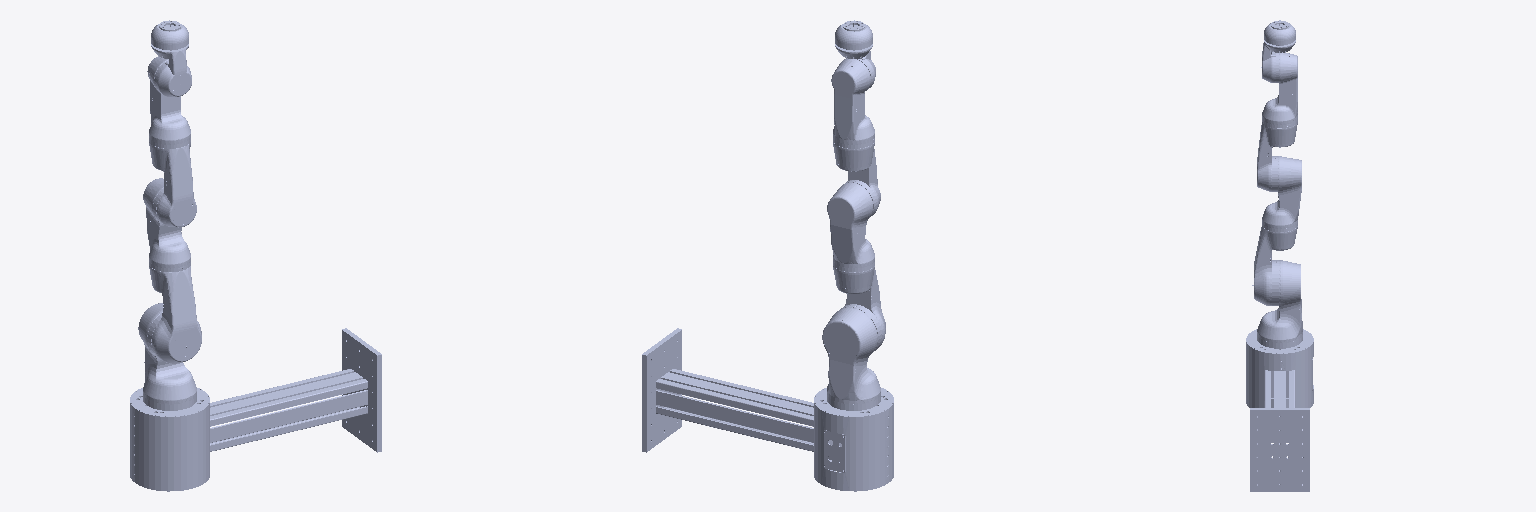
The robot description file, URDF, robot "r_robot":
<?xml version="1.0" encoding="utf-8"?>
<!-- This URDF was automatically created by SolidWorks to URDF Exporter! Originally created by [author] ([email redacted]) 
     Commit Version: 1.6.0-4-g7f85cfe  Build Version: 1.6.7995.38578
     For more information, please see http://wiki.ros.org/sw_urdf_exporter -->
<robot
  name="r_robot">
  <link
    name="base_link">
    <inertial>
      <origin
        xyz="0.0288244297796101 9.15758418819429E-05 3.33337614415248E-06"
        rpy="0 0 0" />
      <mass
        value="47.2278414825512" />
      <inertia
        ixx="20.2855091609073"
        ixy="0.000126569938505645"
        ixz="-0.00694088342846659"
        iyy="20.9162008161584"
        iyz="-0.000294535995843831"
        izz="0.737345947031001" />
    </inertial>
    <visual>
      <origin
        xyz="0 0 0"
        rpy="0 0 0" />
      <geometry>
        <mesh
          filename="package://双臂_1SLDASM/meshes/base_link.STL" />
      </geometry>
      <material
        name="">
        <color
          rgba="0.792156862745098 0.819607843137255 0.933333333333333 1" />
      </material>
    </visual>
    <collision>
      <origin
        xyz="0 0 0"
        rpy="0 0 0" />
      <geometry>
        <mesh
          filename="package://双臂_1SLDASM/meshes/base_link.STL" />
      </geometry>
    </collision>
  </link>
    <link
    name="r_link_1">
    <inertial>
      <origin
        xyz="9.15758418901297E-05 -0.0288244297796102 -0.322596666623851"
        rpy="0 0 0" />
      <mass
        value="47.2278414825512" />
      <inertia
        ixx="20.9162008161584"
        ixy="-0.000126569938505645"
        ixz="-0.000294535995843831"
        iyy="20.2855091609073"
        iyz="0.00694088342847485"
        izz="0.737345947031001" />
    </inertial>
    <visual>
      <origin
        xyz="0 0 0"
        rpy="0 0 0" />
      <geometry>
        <mesh
          filename="package://双臂_1SLDASM/meshes/r_link_1.STL" />
      </geometry>
      <material
        name="">
        <color
          rgba="0.792156862745098 0.819607843137255 0.933333333333333 1" />
      </material>
    </visual>
    <collision>
      <origin
        xyz="0 0 0"
        rpy="0 0 0" />
      <geometry>
        <mesh
          filename="package://双臂_1SLDASM/meshes/r_link_1.STL" />
      </geometry>
    </collision>
  </link>
  <joint
    name="r_joint_1"
    type="continuous">
    <origin
      xyz="0 0 0.322599999999995"
      rpy="0 0 0" />
    <parent
      link="base_link" />
    <child
      link="r_link_1" />
    <axis
      xyz="0 0 1" />
      <hardware id="0" type="driver">
      <limit lower="-2.8099800957" upper="2.8099800957" effort="0" velocity="0" />
      <transform ratio="1.0" offset_pos_cnt="0" cnt_per_unit="[phone redacted]" torque_per_unit="1.0" user_unit_name="rad"/>
      <inputs name="Inputs">
        <status_word>Statusword</status_word>
        <position_actual_value>Position actual value</position_actual_value>
        <velocity_actual_value>Velocity actual value</velocity_actual_value>
        <!-- <torque_actual_value>Torque actual value</torque_actual_value> -->
        <load_torque_value>Analog Input 1</load_torque_value>
         <secondary_position_value>Auxiliary position actual value</secondary_position_value> 
        <!--  <secondary_velocity_value>Secondary velocity value</secondary_velocity_value>  -->
      </inputs>
      <outputs name="Outputs">
        <control_word>Controlword</control_word>
        <mode_of_operation>Modes of operation</mode_of_operation>
        <target_position>Target position</target_position>
        <target_velocity>Target velocity</target_velocity>
        <!-- <target_torque>Target torque</target_torque> -->
      </outputs>
    </hardware>
  </joint>
  <link
    name="r_link_2">
    <inertial>
      <origin
        xyz="9.15758418901401E-05 -0.322596666623851 0.028824429779611"
        rpy="0 0 0" />
      <mass
        value="47.2278414825512" />
      <inertia
        ixx="20.9162008161584"
        ixy="-0.000294535995843833"
        ixz="0.000126569938505418"
        iyy="0.737345947031001"
        iyz="-0.00694088342842729"
        izz="20.2855091609073" />
    </inertial>
    <visual>
      <origin
        xyz="0 0 0"
        rpy="0 0 0" />
      <geometry>
        <mesh
          filename="package://双臂_1SLDASM/meshes/r_link_2.STL" />
      </geometry>
      <material
        name="">
        <color
          rgba="0.792156862745098 0.819607843137255 0.933333333333333 1" />
      </material>
    </visual>
    <collision>
      <origin
        xyz="0 0 0"
        rpy="0 0 0" />
      <geometry>
        <mesh
          filename="package://双臂_1SLDASM/meshes/r_link_2.STL" />
      </geometry>
    </collision>
  </link>
  <joint
    name="r_joint_2"
    type="continuous">
    <origin
      xyz="0 0 0"
      rpy="1.5707963267949 0 0" />
    <parent
      link="r_link_1" />
    <child
      link="r_link_2" />
    <axis
      xyz="0 0 1" />
      <hardware id="1" type="driver">
      <limit lower="-2.3038346126" upper="2.3038346126" effort="0" velocity="0" />
      <transform ratio="1.0" offset_pos_cnt="0" cnt_per_unit="[phone redacted]" torque_per_unit="1.0" user_unit_name="rad"/>
      <inputs name="Inputs">
        <status_word>Statusword</status_word>
        <position_actual_value>Position actual value</position_actual_value>
        <velocity_actual_value>Velocity actual value</velocity_actual_value>
        <!-- <torque_actual_value>Torque actual value</torque_actual_value> -->
        <load_torque_value>Analog Input 1</load_torque_value>
         <secondary_position_value>Auxiliary position actual value</secondary_position_value> 
        <!--  <secondary_velocity_value>Secondary velocity value</secondary_velocity_value>  -->
      </inputs>
      <outputs name="Outputs">
        <control_word>Controlword</control_word>
        <mode_of_operation>Modes of operation</mode_of_operation>
        <target_position>Target position</target_position>
        <target_velocity>Target velocity</target_velocity>
        <!-- <target_torque>Target torque</target_torque> -->
      </outputs>
    </hardware>
  </joint>
  <link
    name="r_link_3">
    <inertial>
      <origin
        xyz="9.15758418893732E-05 -0.0288244297796136 -0.724096666623855"
        rpy="0 0 3.14" />
      <mass
        value="47.2278414825512" />
      <inertia
        ixx="20.9162008161584"
        ixy="-0.000126569938505668"
        ixz="-0.00029453599577981"
        iyy="20.2855091609073"
        iyz="0.00694088342841017"
        izz="0.737345947031001" />
    </inertial>
    <visual>
      <origin
        xyz="0 0 0"
        rpy="0 0 3.14" />
      <geometry>
        <mesh
          filename="package://双臂_1SLDASM/meshes/r_link_3.STL" />
      </geometry>
      <material
        name="">
        <color
          rgba="0.792156862745098 0.819607843137255 0.933333333333333 1" />
      </material>
    </visual>
    <collision>
      <origin
        xyz="0 0 0"
        rpy="0 0 0" />
      <geometry>
        <mesh
          filename="package://双臂_1SLDASM/meshes/r_link_3.STL" />
      </geometry>
    </collision>
  </link>
  <joint
    name="r_joint_3"
    type="continuous">
    <origin
      xyz="0 0.401500000000004 0"
      rpy="-1.5707963267949 0 0" />
    <parent
      link="r_link_2" />
    <child
      link="r_link_3" />
    <axis
      xyz="0 0 1" />
      <hardware id="2" type="driver">
      <limit lower="-2.8274333882" upper="2.8274333882" effort="0" velocity="0" />
      <transform ratio="1.0" offset_pos_cnt="0" cnt_per_unit="[phone redacted]" torque_per_unit="1.0" user_unit_name="rad"/>
      <inputs name="Inputs">
        <status_word>Statusword</status_word>
        <position_actual_value>Position actual value</position_actual_value>
        <velocity_actual_value>Velocity actual value</velocity_actual_value>
        <!-- <torque_actual_value>Torque actual value</torque_actual_value> -->
        <load_torque_value>Analog Input 1</load_torque_value>
         <secondary_position_value>Auxiliary position actual value</secondary_position_value> 
        <!--  <secondary_velocity_value>Secondary velocity value</secondary_velocity_value>  -->
      </inputs>
      <outputs name="Outputs">
        <control_word>Controlword</control_word>
        <mode_of_operation>Modes of operation</mode_of_operation>
        <target_position>Target position</target_position>
        <target_velocity>Target velocity</target_velocity>
        <!-- <target_torque>Target torque</target_torque> -->
      </outputs>
    </hardware>
  </joint>
  <link
    name="r_link_4">
    <inertial>
      <origin
        xyz="9.15758418893829E-05 -0.724096666623855 0.0288244297796142"
        rpy="0 3.14 0" />
      <mass
        value="47.2278414825512" />
      <inertia
        ixx="20.9162008161584"
        ixy="-0.000294535995779812"
        ixz="0.000126569938505458"
        iyy="0.737345947031001"
        iyz="-0.0069408834283956"
        izz="20.2855091609073" />
    </inertial>
    <visual>
      <origin
        xyz="0 0 0"
        rpy="0 3.14 0" />
      <geometry>
        <mesh
          filename="package://双臂_1SLDASM/meshes/r_link_4.STL" />
      </geometry>
      <material
        name="">
        <color
          rgba="0.792156862745098 0.819607843137255 0.933333333333333 1" />
      </material>
    </visual>
    <collision>
      <origin
        xyz="0 0 0"
        rpy="0 0 0" />
      <geometry>
        <mesh
          filename="package://双臂_1SLDASM/meshes/r_link_4.STL" />
      </geometry>
    </collision>
  </link>
  <joint
    name="r_joint_4"
    type="continuous">
    <origin
      xyz="0 0 0"
      rpy="1.5707963267949 0 0" />
    <parent
      link="r_link_3" />
    <child
      link="r_link_4" />
    <axis
      xyz="0 0 1" />
      <hardware id="3" type="driver">
      <limit lower="-2.3038346126" upper="2.3038346126" effort="0" velocity="0" />
      <transform ratio="1.0" offset_pos_cnt="0" cnt_per_unit="[phone redacted]" torque_per_unit="1.0" user_unit_name="rad"/>
      <inputs name="Inputs">
        <status_word>Statusword</status_word>
        <position_actual_value>Position actual value</position_actual_value>
        <velocity_actual_value>Velocity actual value</velocity_actual_value>
        <!-- <torque_actual_value>Torque actual value</torque_actual_value> -->
        <load_torque_value>Analog Input 1</load_torque_value>
         <secondary_position_value>Auxiliary position actual value</secondary_position_value> 
        <!--  <secondary_velocity_value>Secondary velocity value</secondary_velocity_value>  -->
      </inputs>
      <outputs name="Outputs">
        <control_word>Controlword</control_word>
        <mode_of_operation>Modes of operation</mode_of_operation>
        <target_position>Target position</target_position>
        <target_velocity>Target velocity</target_velocity>
        <!-- <target_torque>Target torque</target_torque> -->
      </outputs>
    </hardware>
  </joint>
  <link
    name="r_link_5">
    <inertial>
      <origin
        xyz="9.15758418835029E-05 -0.0288244297796109 -1.11559666662385"
        rpy="0 0 0" />
      <mass
        value="47.2278414825512" />
      <inertia
        ixx="20.9162008161584"
        ixy="-0.000126569938504139"
        ixz="-0.000294535995845924"
        iyy="20.2855091609073"
        iyz="0.00694088342847196"
        izz="0.737345947031001" />
    </inertial>
    <visual>
      <origin
        xyz="0 0 0"
        rpy="0 0 0" />
      <geometry>
        <mesh
          filename="package://双臂_1SLDASM/meshes/r_link_5.STL" />
      </geometry>
      <material
        name="">
        <color
          rgba="0.792156862745098 0.819607843137255 0.933333333333333 1" />
      </material>
    </visual>
    <collision>
      <origin
        xyz="0 0 0"
        rpy="0 0 0" />
      <geometry>
        <mesh
          filename="package://双臂_1SLDASM/meshes/r_link_5.STL" />
      </geometry>
    </collision>
  </link>
  <joint
    name="r_joint_5"
    type="continuous">
    <origin
      xyz="0 0.391499999999997 0"
      rpy="-1.5707963267949 0 0" />
    <parent
      link="r_link_4" />
    <child
      link="r_link_5" />
    <axis
      xyz="0 0 1" />
      <hardware id="4" type="driver">
      <limit lower="-2.8274333882" upper="2.8274333882" effort="0" velocity="0" />
      <transform ratio="1.0" offset_pos_cnt="0" cnt_per_unit="20860.75670094" torque_per_unit="1.0" user_unit_name="rad"/>
      <inputs name="Inputs">
        <status_word>Statusword</status_word>
        <position_actual_value>Position actual value</position_actual_value>
        <velocity_actual_value>Velocity actual value</velocity_actual_value>
        <!-- <torque_actual_value>Torque actual value</torque_actual_value> -->
        <load_torque_value>Analog Input 1</load_torque_value>
         <secondary_position_value>Auxiliary position actual value</secondary_position_value> 
        <!--  <secondary_velocity_value>Secondary velocity value</secondary_velocity_value>  -->
      </inputs>
      <outputs name="Outputs">
        <control_word>Controlword</control_word>
        <mode_of_operation>Modes of operation</mode_of_operation>
        <target_position>Target position</target_position>
        <target_velocity>Target velocity</target_velocity>
        <!-- <target_torque>Target torque</target_torque> -->
      </outputs>
    </hardware>
  </joint>
  <link
    name="r_link_6">
    <inertial>
      <origin
        xyz="9.15758418835029E-05 -1.11559666662385 0.0288244297796107"
        rpy="0 0 0" />
      <mass
        value="47.2278414825512" />
      <inertia
        ixx="20.9162008161584"
        ixy="-0.000294535995845924"
        ixz="0.000126569938504139"
        iyy="0.737345947031001"
        iyz="-0.0069408834284748"
        izz="20.2855091609073" />
    </inertial>
    <visual>
      <origin
        xyz="0 0 0"
        rpy="0 0 0" />
      <geometry>
        <mesh
          filename="package://双臂_1SLDASM/meshes/r_link_6.STL" />
      </geometry>
      <material
        name="">
        <color
          rgba="0.792156862745098 0.819607843137255 0.933333333333333 1" />
      </material>
    </visual>
    <collision>
      <origin
        xyz="0 0 0"
        rpy="0 0 0" />
      <geometry>
        <mesh
          filename="package://双臂_1SLDASM/meshes/r_link_6.STL" />
      </geometry>
    </collision>
  </link>
  <joint
    name="r_joint_6"
    type="continuous">
    <origin
      xyz="0 0 0"
      rpy="1.5707963267949 0 0" />
    <parent
      link="r_link_5" />
    <child
      link="r_link_6" />
    <axis
      xyz="0 0 1" />
      <hardware id="5" type="driver">
      <limit lower="-2.0594885174" upper="2.0594885174" effort="0" velocity="0" />
      <transform ratio="1.0" offset_pos_cnt="0" cnt_per_unit="2086075.670094" torque_per_unit="1.0" user_unit_name="rad"/>
      <inputs name="Inputs">
        <status_word>Statusword</status_word>
        <position_actual_value>Position actual value</position_actual_value>
        <velocity_actual_value>Velocity actual value</velocity_actual_value>
        <!-- <torque_actual_value>Torque actual value</torque_actual_value> -->
        <load_torque_value>Analog Input 1</load_torque_value>
         <secondary_position_value>Auxiliary position actual value</secondary_position_value> 
        <!--  <secondary_velocity_value>Secondary velocity value</secondary_velocity_value>  -->
      </inputs>
      <outputs name="Outputs">
        <control_word>Controlword</control_word>
        <mode_of_operation>Modes of operation</mode_of_operation>
        <target_position>Target position</target_position>
        <target_velocity>Target velocity</target_velocity>
        <!-- <target_torque>Target torque</target_torque> -->
      </outputs>
    </hardware>
  </joint>
  <link
    name="r_link_7">
    <inertial>
      <origin
        xyz="0.0285218516651076 -0.00416654723339838 -1.27319666662385"
        rpy="0 0 0" />
      <mass
        value="47.2278414825512" />
      <inertia
        ixx="20.2993032464407"
        ixy="0.092247243113188"
        ixz="-0.00690826665631541"
        iyy="20.902406730625"
        iyz="0.000733802443254496"
        izz="0.737345947031001" />
    </inertial>
    <visual>
      <origin
        xyz="0 0 0"
        rpy="0 0 0" />
      <geometry>
        <mesh
          filename="package://双臂_1SLDASM/meshes/r_link_7.STL" />
      </geometry>
      <material
        name="">
        <color
          rgba="0.792156862745098 0.819607843137255 0.933333333333333 1" />
      </material>
    </visual>
    <collision>
      <origin
        xyz="0 0 0"
        rpy="0 0 0" />
      <geometry>
        <mesh
          filename="package://双臂_1SLDASM/meshes/r_link_7.STL" />
      </geometry>
    </collision>
  </link>
  <joint
    name="r_joint_7"
    type="continuous">
    <origin
      xyz="0 0.157599999999999 0"
      rpy="-1.5707963267949 0 0" />
    <parent
      link="r_link_6" />
    <child
      link="r_link_7" />
    <axis
      xyz="0 0 1" />
      <hardware id="6" type="driver">
      <limit lower="-2.8274333882" upper="2.8274333882" effort="0" velocity="0" />
      <transform ratio="1.0" offset_pos_cnt="0" cnt_per_unit="2086075.670094" torque_per_unit="1.0" user_unit_name="rad"/>
      <inputs name="Inputs">
        <status_word>Statusword</status_word>
        <position_actual_value>Position actual value</position_actual_value>
        <velocity_actual_value>Velocity actual value</velocity_actual_value>
        <!-- <torque_actual_value>Torque actual value</torque_actual_value> -->
        <load_torque_value>Analog Input 1</load_torque_value>
         <secondary_position_value>Auxiliary position actual value</secondary_position_value> 
        <!--  <secondary_velocity_value>Secondary velocity value</secondary_velocity_value>  -->
      </inputs>
      <outputs name="Outputs">
        <control_word>Controlword</control_word>
        <mode_of_operation>Modes of operation</mode_of_operation>
        <target_position>Target position</target_position>
        <target_velocity>Target velocity</target_velocity>
        <!-- <target_torque>Target torque</target_torque> -->
      </outputs>
    </hardware>
  </joint>
</robot>

--- Facts derived from the render (not from the file) ---
3 views of the same robot in one strip: view 1: azimuth 30°, elevation 25°; view 2: azimuth 150°, elevation 25°; view 3: azimuth 270°, elevation 25° (orthographic).
Model r_robot with 8 links and 7 joints (7 continuous), rooted at base_link, posed all joints at 0.
Links seen in each view (by area): view 1: base_link, r_link_2, r_link_1, r_link_4, r_link_3, r_link_5, r_link_6, r_link_7; view 2: base_link, r_link_1, r_link_3, r_link_5, r_link_2, r_link_4, r_link_7; view 3: base_link, r_link_1, r_link_3, r_link_2, r_link_5, r_link_4, r_link_6, r_link_7.
Boxes of the visible links, bbox=[...] form: base_link: bbox=[130, 328, 381, 491]; r_link_2: bbox=[147, 266, 201, 363]; r_link_1: bbox=[138, 303, 196, 410]; r_link_4: bbox=[149, 142, 196, 227]; r_link_3: bbox=[143, 178, 190, 271]; r_link_5: bbox=[147, 56, 190, 148]; r_link_6: bbox=[151, 44, 191, 96]; r_link_7: bbox=[151, 20, 188, 50]; base_link: bbox=[642, 328, 893, 491]; r_link_1: bbox=[822, 307, 880, 410]; r_link_3: bbox=[827, 182, 874, 271]; r_link_5: bbox=[831, 58, 874, 148]; r_link_2: bbox=[833, 266, 885, 351]; r_link_4: bbox=[833, 142, 880, 217]; r_link_7: bbox=[835, 20, 872, 50]; base_link: bbox=[1246, 329, 1313, 491]; r_link_1: bbox=[1257, 260, 1302, 348]; r_link_3: bbox=[1262, 156, 1301, 231]; r_link_2: bbox=[1252, 226, 1297, 305]; r_link_5: bbox=[1262, 52, 1297, 127]; r_link_4: bbox=[1257, 122, 1297, 191]; r_link_6: bbox=[1261, 40, 1295, 82]; r_link_7: bbox=[1264, 20, 1295, 45].
Size in the robot's own frame: 0.7415 by 0.2252 by 1.43 metres.
Meshes: 8 distinct files referenced, 8 mesh visuals loaded (8 binary STL).
